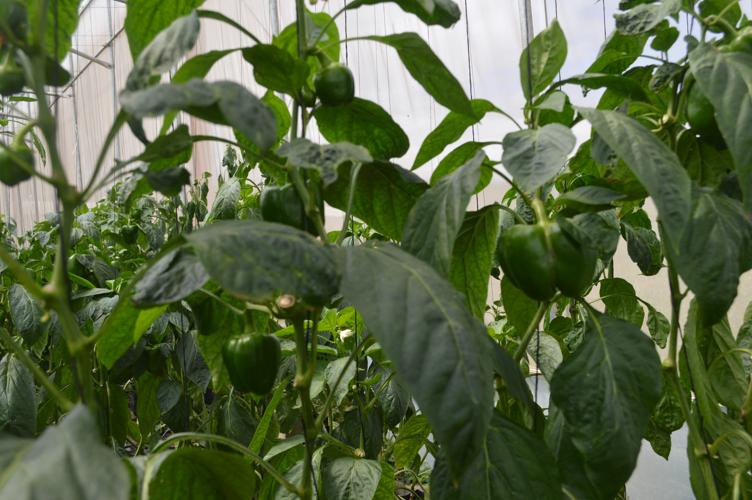BellPepper: (497, 223, 592, 300), (222, 335, 284, 401), (263, 182, 326, 240), (676, 83, 726, 149), (315, 65, 358, 111), (4, 144, 32, 185), (5, 62, 32, 97)
